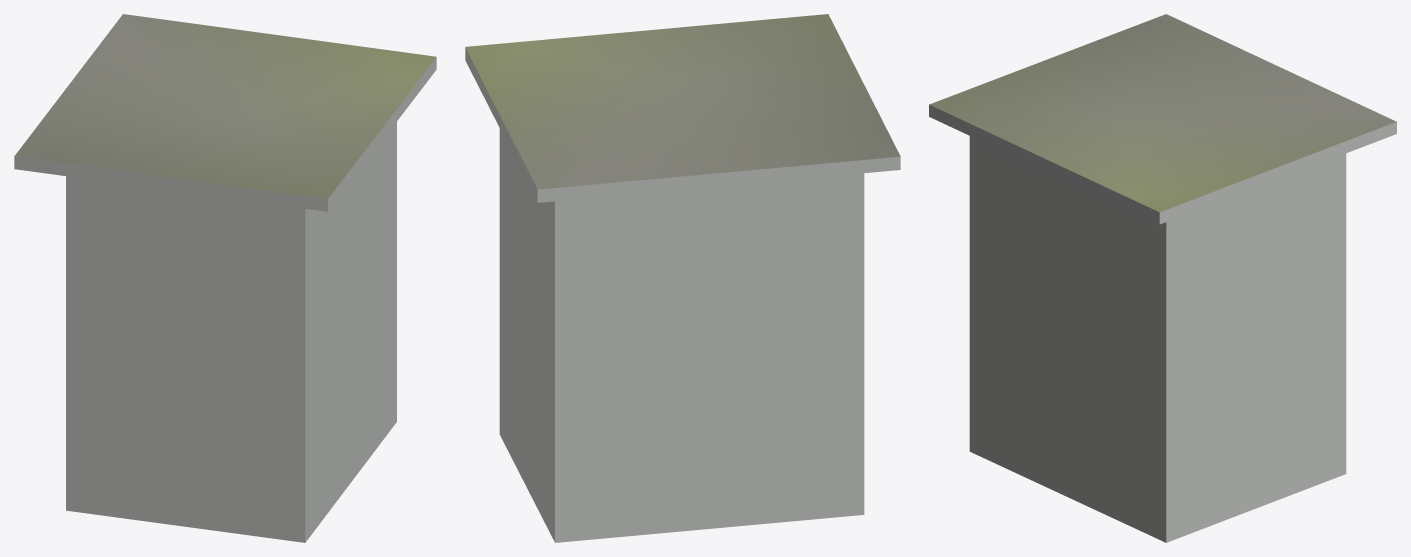
File: LSMP_-3_-2.glb
3 views of the same model, side by side, from view 1: azimuth 30°, elevation 25°; view 2: azimuth 150°, elevation 25°; view 3: azimuth 270°, elevation 25° (orthographic). The views are drawn at different scales.
Parts seen in each view (by area): view 1: building_198e2da6eb9fa1e2, building_b2cd0a4301b771cf; view 2: building_198e2da6eb9fa1e2, building_b2cd0a4301b771cf; view 3: building_198e2da6eb9fa1e2, building_b2cd0a4301b771cf.
Part boxes in pixels (left/top/right/bottom): building_198e2da6eb9fa1e2: left=66, top=122, right=396, bottom=542; building_b2cd0a4301b771cf: left=14, top=14, right=436, bottom=211; building_198e2da6eb9fa1e2: left=499, top=128, right=864, bottom=542; building_b2cd0a4301b771cf: left=465, top=14, right=900, bottom=202; building_198e2da6eb9fa1e2: left=969, top=136, right=1346, bottom=542; building_b2cd0a4301b771cf: left=929, top=14, right=1396, bottom=224.
Size of what is drawn, in the model's own units: 6.94 by 5.67 by 6.91.
Materials: 2 (1 with a texture image).
